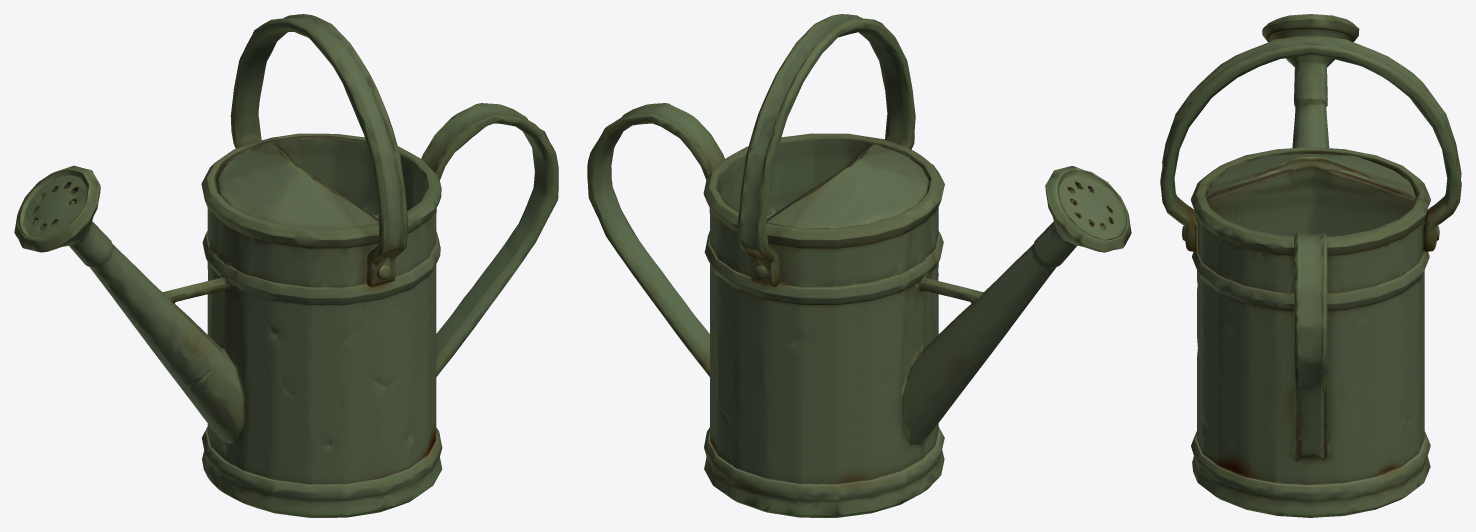
Rendered from watering_can_3d_model.fbx.
3 renders of one model, left to right at view 1: azimuth 30°, elevation 25°; view 2: azimuth 150°, elevation 25°; view 3: azimuth 270°, elevation 25°, orthographic. The views are drawn at different scales.
Parts seen in each view (by area): view 1: tripo_node_4328959f; view 2: tripo_node_4328959f; view 3: tripo_node_4328959f.
Boxes of the visible parts, x1,y1,x2,y2 form: tripo_node_4328959f: [14, 14, 558, 517]; tripo_node_4328959f: [587, 14, 1131, 517]; tripo_node_4328959f: [1160, 14, 1461, 517].
Bounding box in the file's own units: 0.9795 × 0.7853 × 0.4989.
